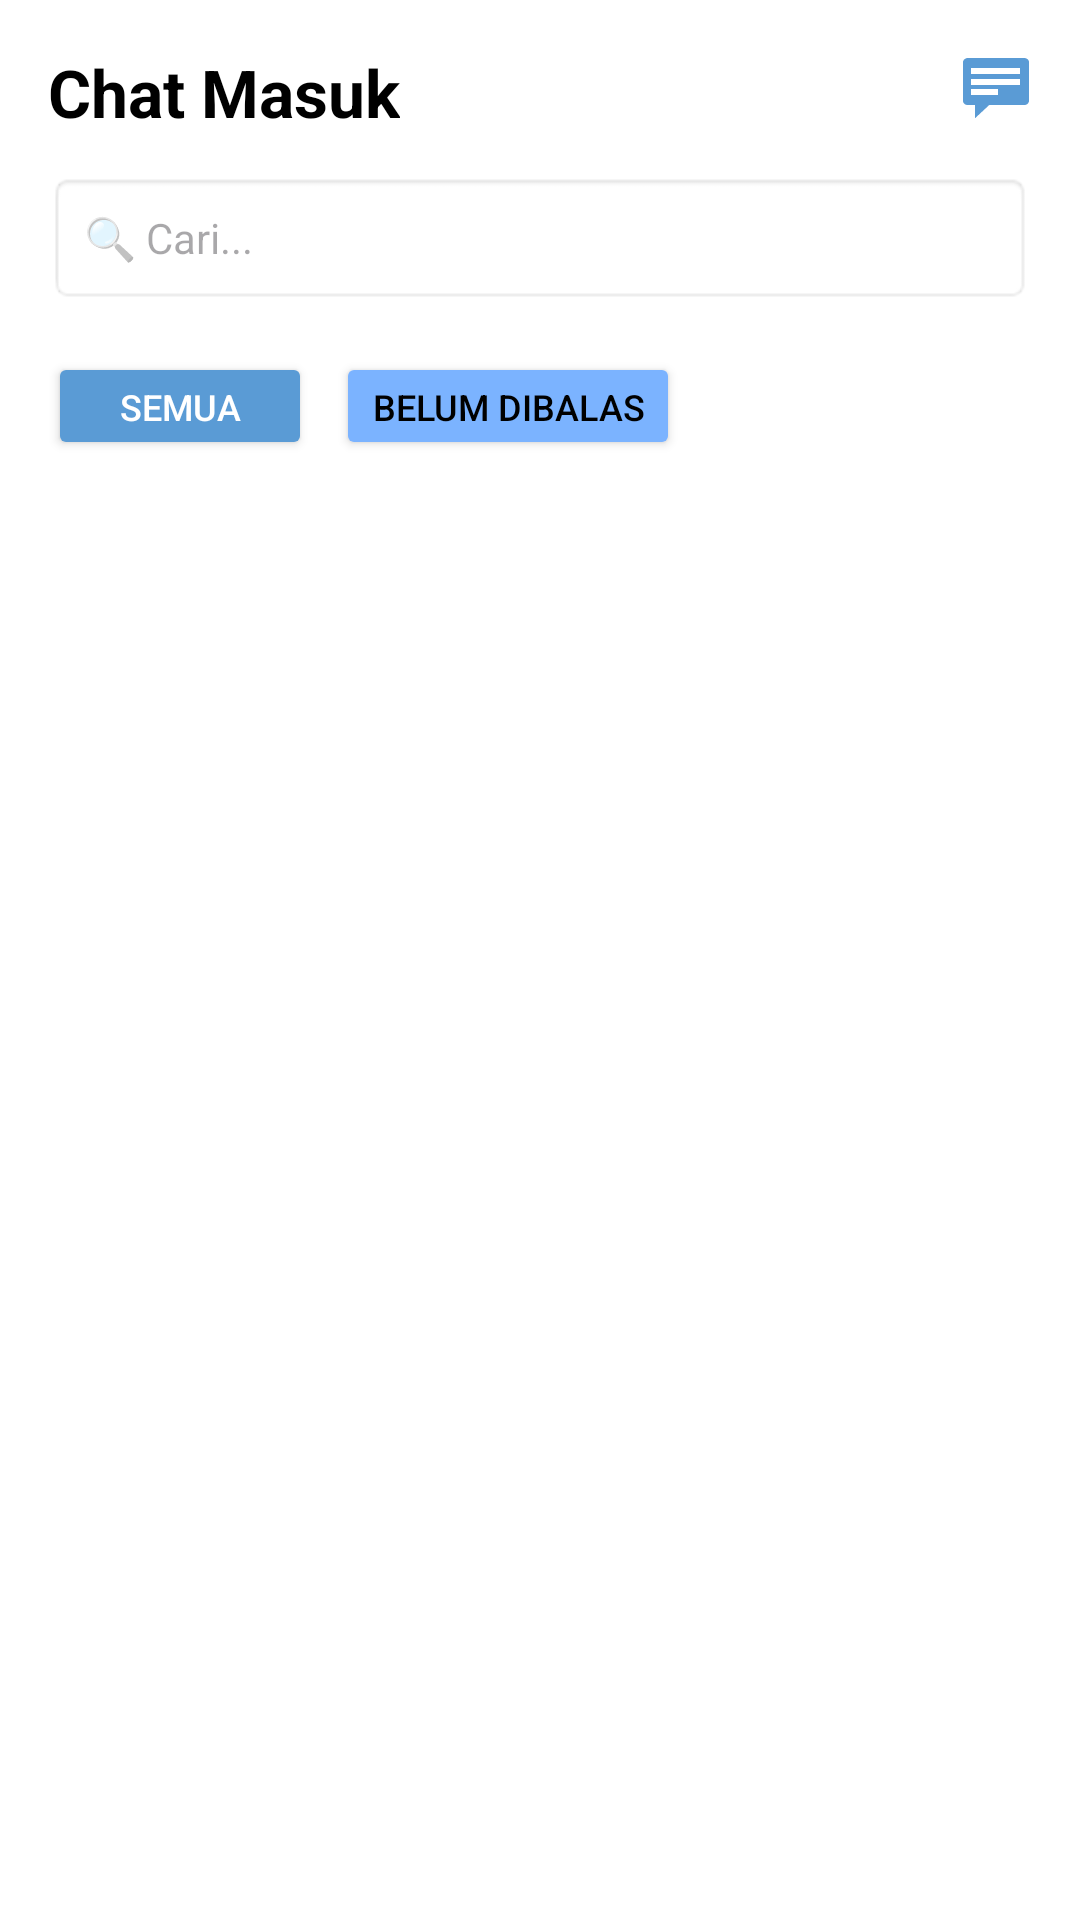

Locate icon controls on the screen. Image size 1080px×1920px, boxes as (x1, y1, x2, y2).
chat: (963, 58, 1029, 118)
